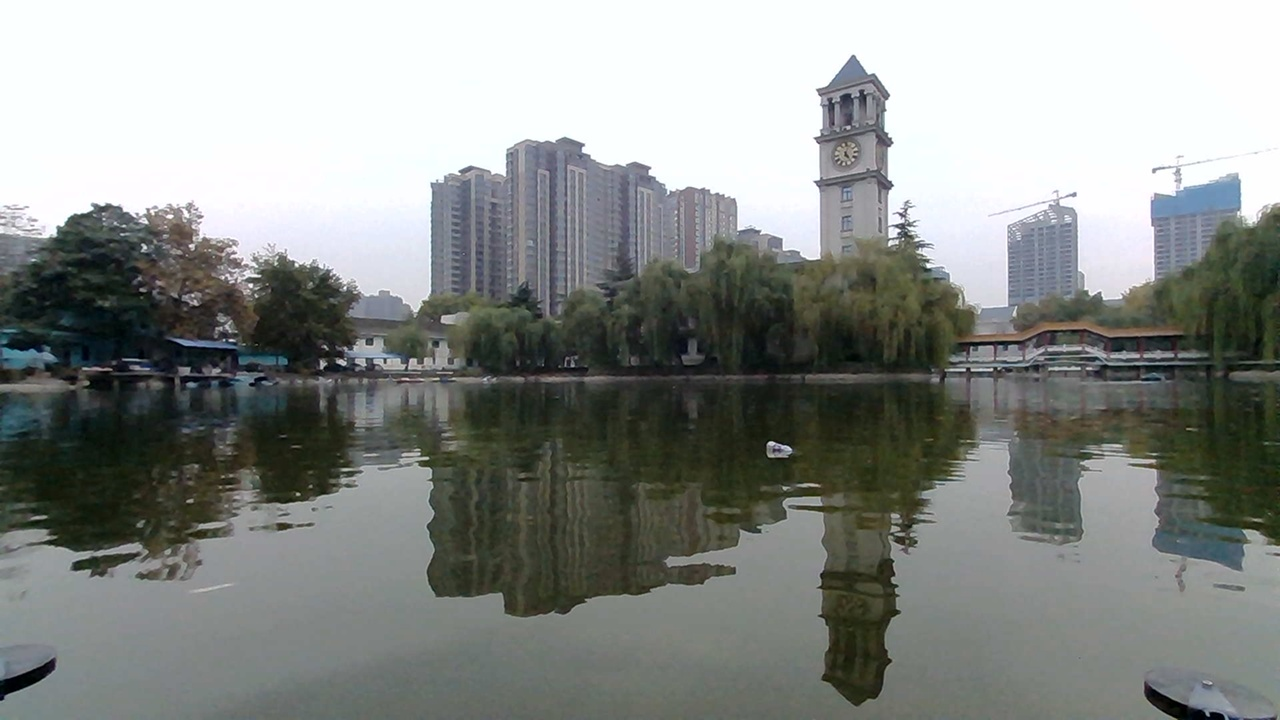bottle: (756, 432, 795, 462)
